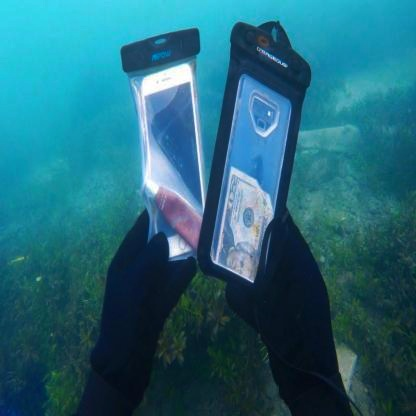cellphone: (209, 70, 294, 289), (132, 59, 210, 261)
